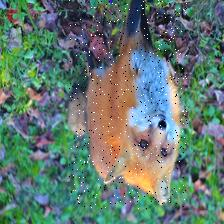fox: (69, 0, 188, 209)
